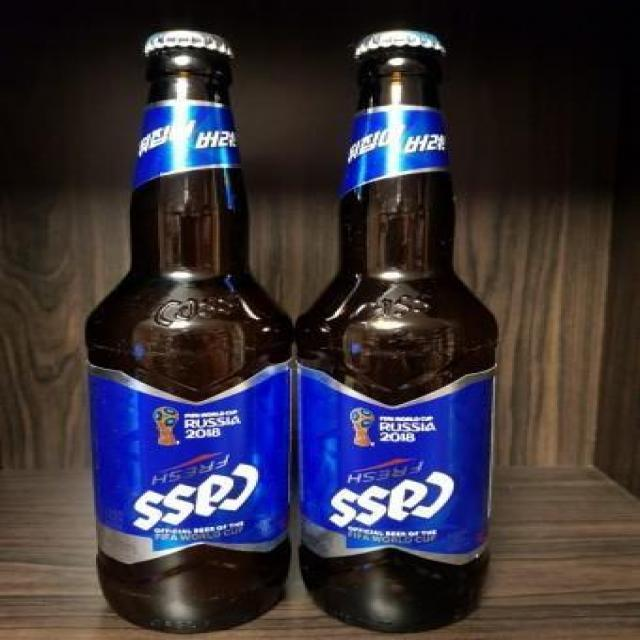beer-bottle: (82, 25, 302, 638), (290, 25, 497, 640)
